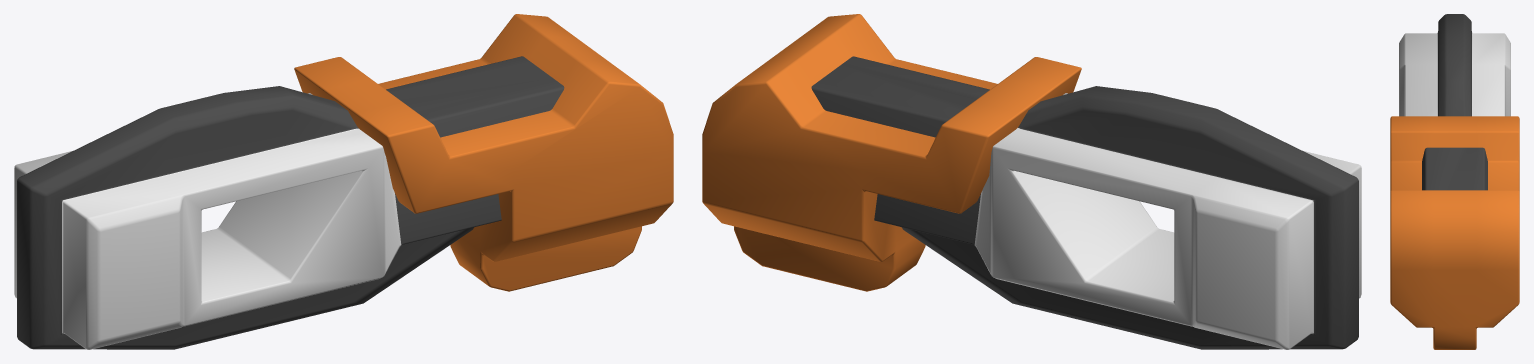
The model's file is Robot_Leg_01.fbx.
The picture shows the model from 3 angles, left to right: view 1: azimuth 30°, elevation 25°; view 2: azimuth 150°, elevation 25°; view 3: azimuth 270°, elevation 25°; orthographic projection. The views are drawn at different scales.
Parts seen in each view (by area): view 1: Robot_Leg_01; view 2: Robot_Leg_01; view 3: Robot_Leg_01.
Part boxes in pixels (x1=…): Robot_Leg_01: x1=14, y1=14, x2=673, y2=349; Robot_Leg_01: x1=702, y1=14, x2=1361, y2=349; Robot_Leg_01: x1=1390, y1=14, x2=1519, y2=349.
Size of the model in its own units: 1.84 by 0.7202 by 0.4984.
